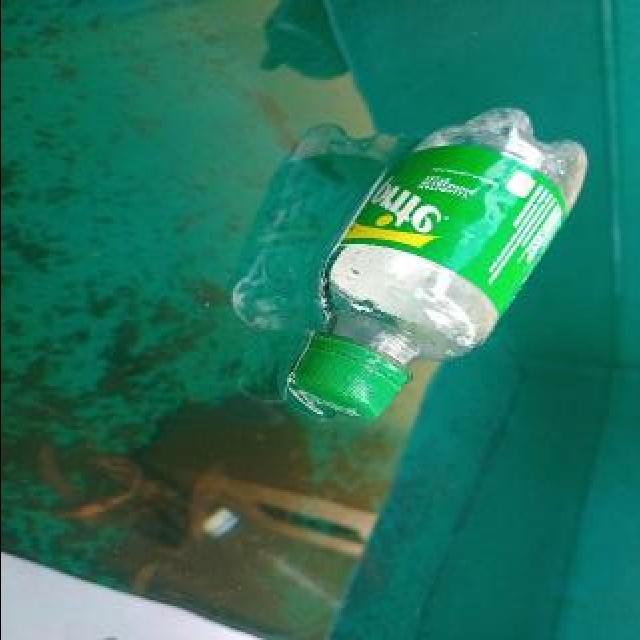Bottle: (276, 99, 594, 432)
